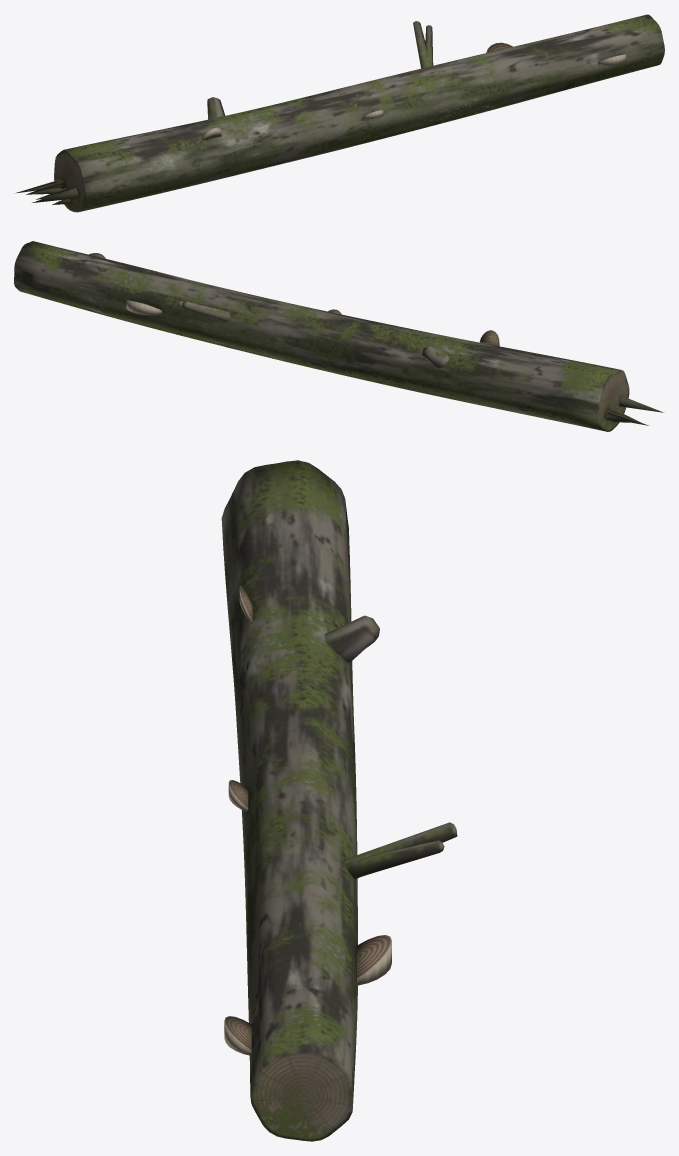
File: kmen_3.glb
The picture shows the model from 3 angles, top to bottom: view 1: azimuth 30°, elevation 25°; view 2: azimuth 150°, elevation 25°; view 3: azimuth 270°, elevation 25°; orthographic projection. The views are drawn at different scales.
Parts seen in each view (by area): view 1: kmen_3; view 2: kmen_3; view 3: kmen_3.
Part boxes in pixels (left/top/right/bottom): kmen_3: left=15, top=14, right=664, bottom=212; kmen_3: left=14, top=241, right=664, bottom=431; kmen_3: left=221, top=460, right=457, bottom=1141.
Bounding box in the file's own units: 3.45 × 0.3622 × 0.5604.
1 material, 1 textured.
